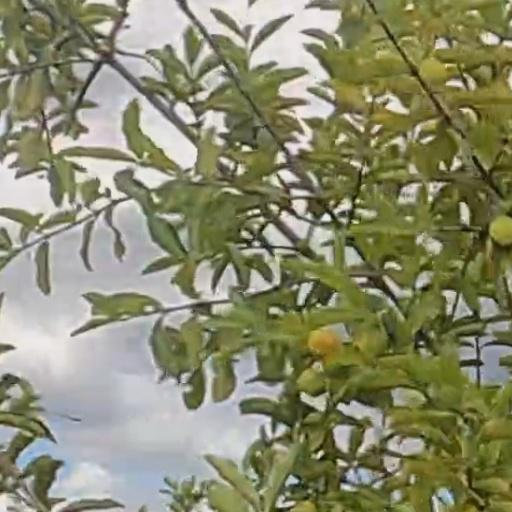acerola_verde: (419, 57, 445, 84), (488, 215, 512, 243), (307, 329, 335, 350)
